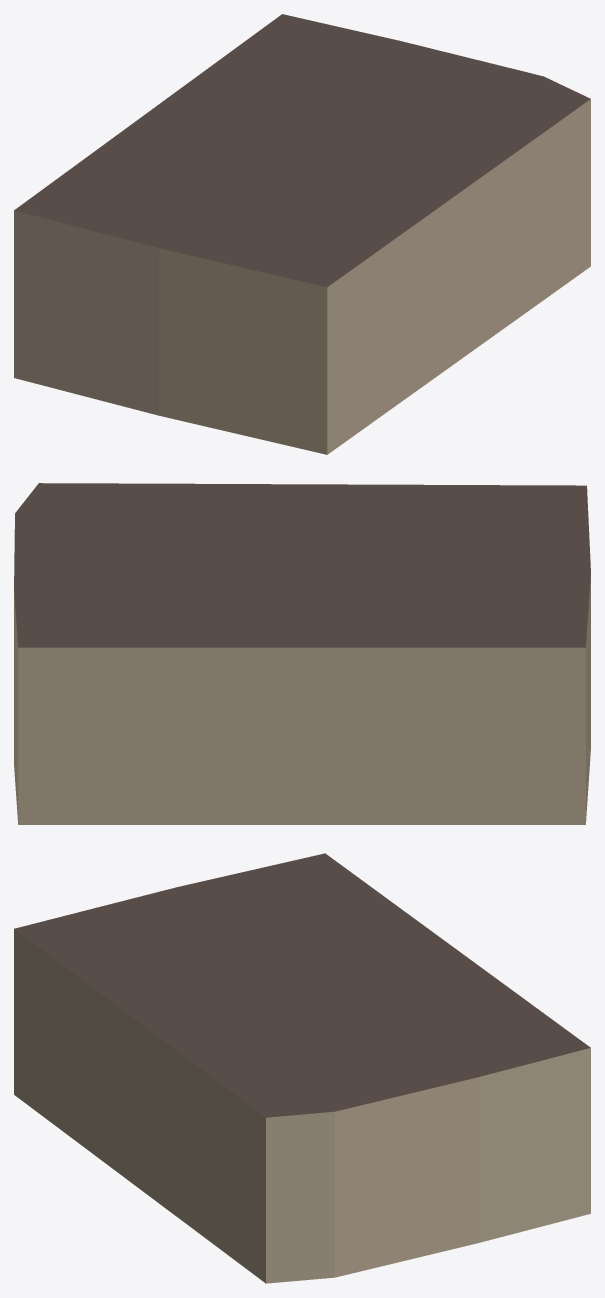
3 views of the same model, one above another, from view 1: azimuth 30°, elevation 25°; view 2: azimuth 150°, elevation 25°; view 3: azimuth 270°, elevation 25° (orthographic). The views are drawn at different scales.
Visible parts, largest first — view 1: HP-w1197841106; view 2: HP-w1197841106; view 3: HP-w1197841106.
Boxes of the visible parts, bbox=[...] form: HP-w1197841106: bbox=[14, 14, 590, 454]; HP-w1197841106: bbox=[14, 483, 590, 824]; HP-w1197841106: bbox=[14, 853, 590, 1283].
Size of the model in its own units: 30.75 by 9 by 28.36.
